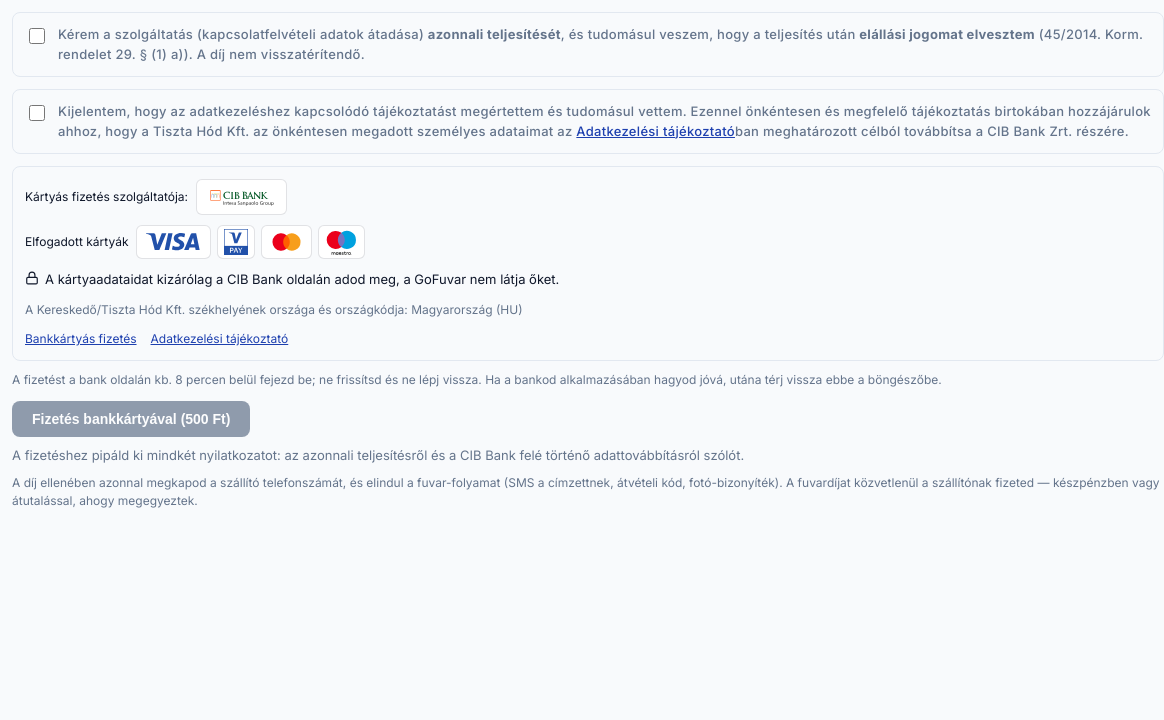
Test case: útválasztás: CIB átirányítás vs stub › javascript: átirányítási cél → nem navigál, fix hibaszöveg
Expected: the text "Kártyás fizetés szolgáltatója:" is shown, [25, 187, 188, 207]
Click the 1st checkbox at x=37, y=36, box [29, 28, 45, 44]
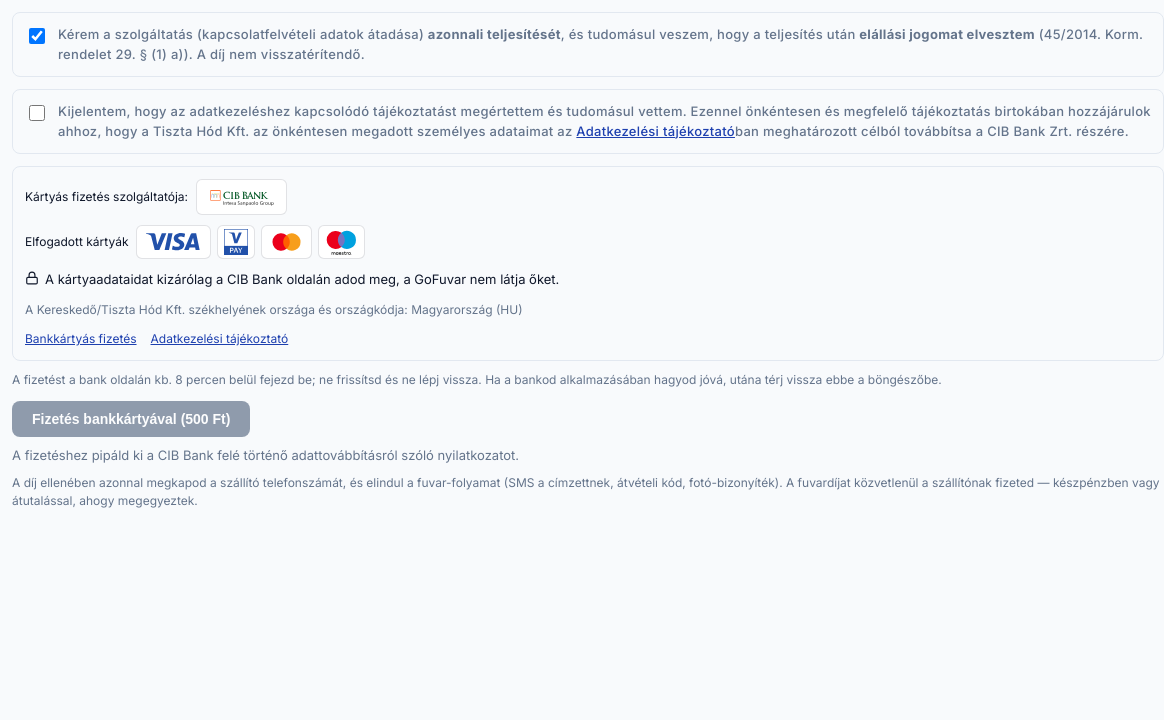
Click the 2nd checkbox at x=37, y=113, box [29, 105, 45, 121]
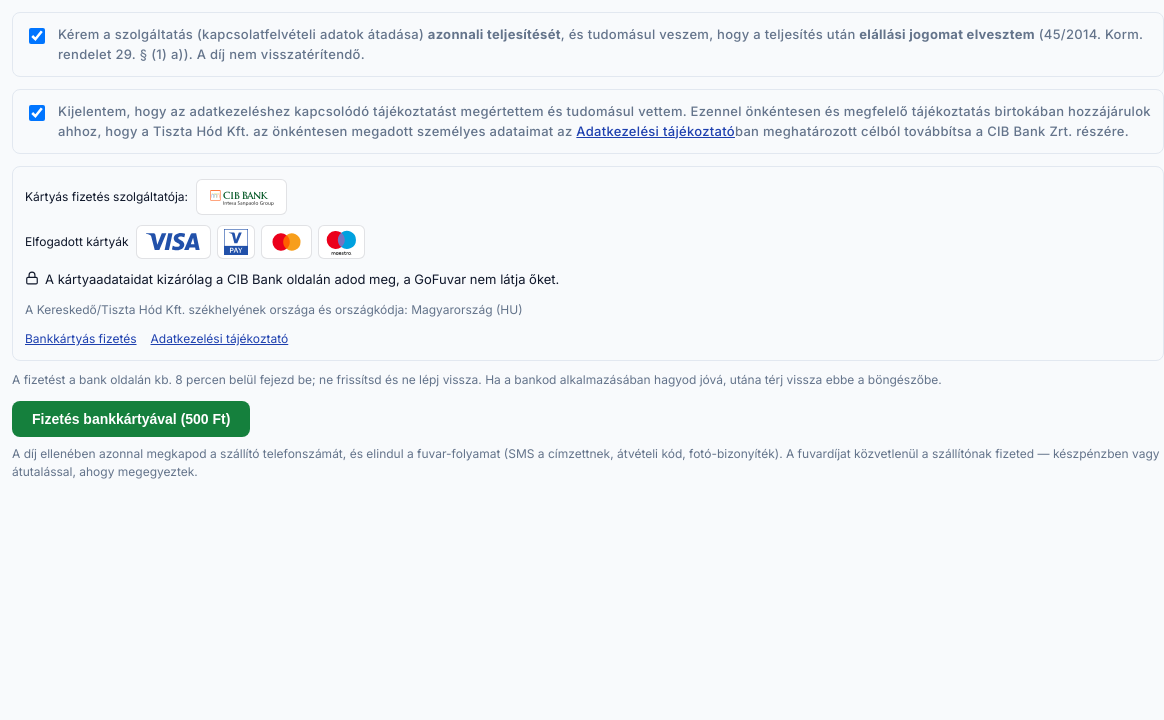
Click the button "Fizetés bankkártyával (500 Ft)" at x=131, y=419, box [12, 401, 250, 437]
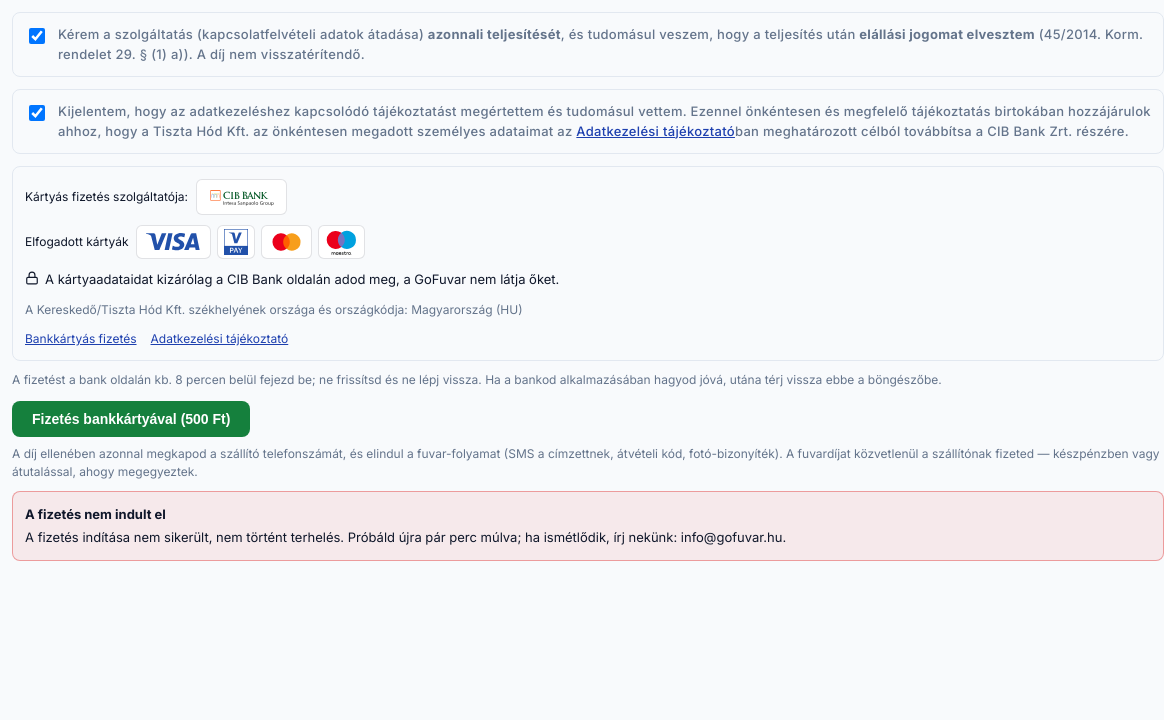
Expected: the message is shown, [12, 491, 1163, 561]
